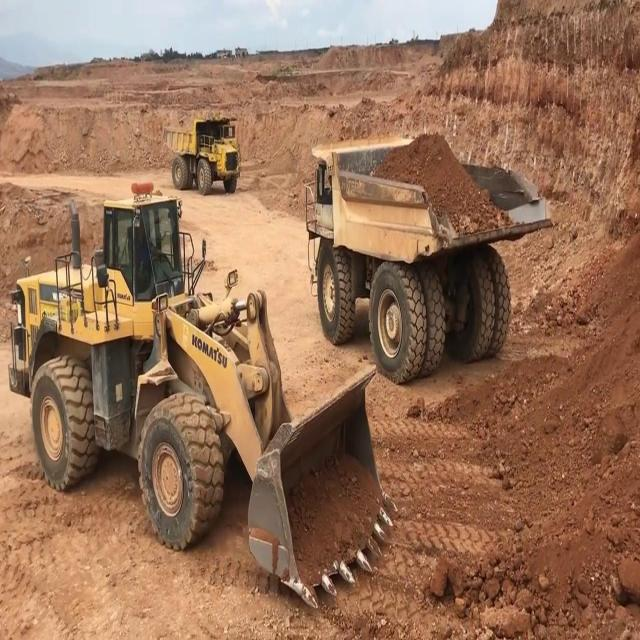buldozerpayloadergrader: (8, 175, 396, 610)
dump_truck: (308, 117, 556, 384), (165, 104, 245, 193)
